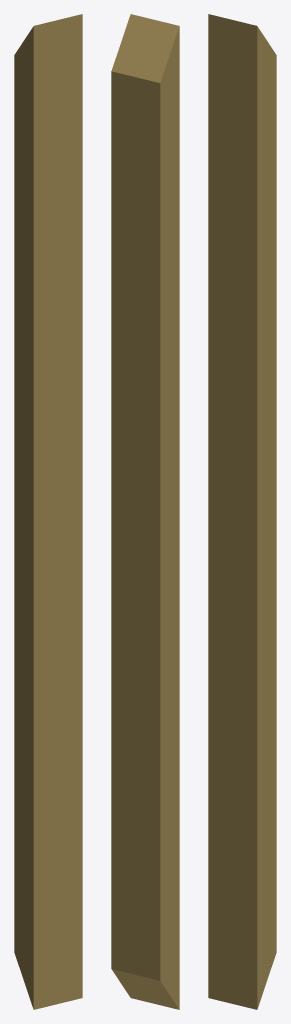
The model's file is TreeSupport.fbx.
The picture shows the model from 3 angles, left to right: view 1: azimuth 30°, elevation 25°; view 2: azimuth 150°, elevation 25°; view 3: azimuth 330°, elevation 25°; orthographic projection.
Visible parts, largest first — view 1: pCube4659; view 2: pCube4659; view 3: pCube4659.
Part boxes in pixels (left/top/right/bottom): pCube4659: left=14, top=14, right=82, bottom=1009; pCube4659: left=111, top=14, right=179, bottom=1009; pCube4659: left=208, top=14, right=276, bottom=1009.
Bounding box in the file's own units: 0.4014 × 7.72 × 0.2739.
